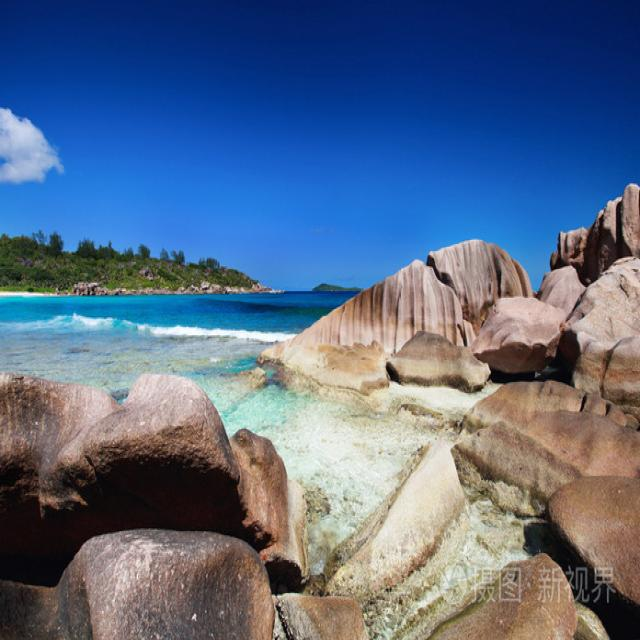island: (0, 219, 276, 308)
